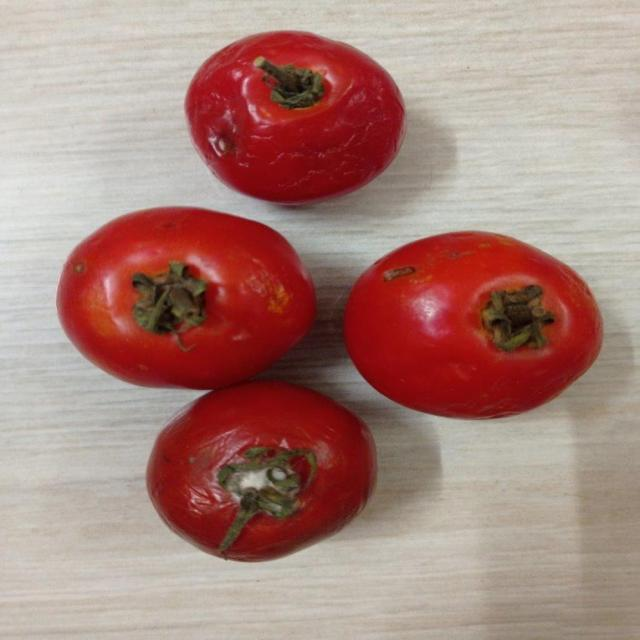Rotten: (182, 28, 408, 201)
